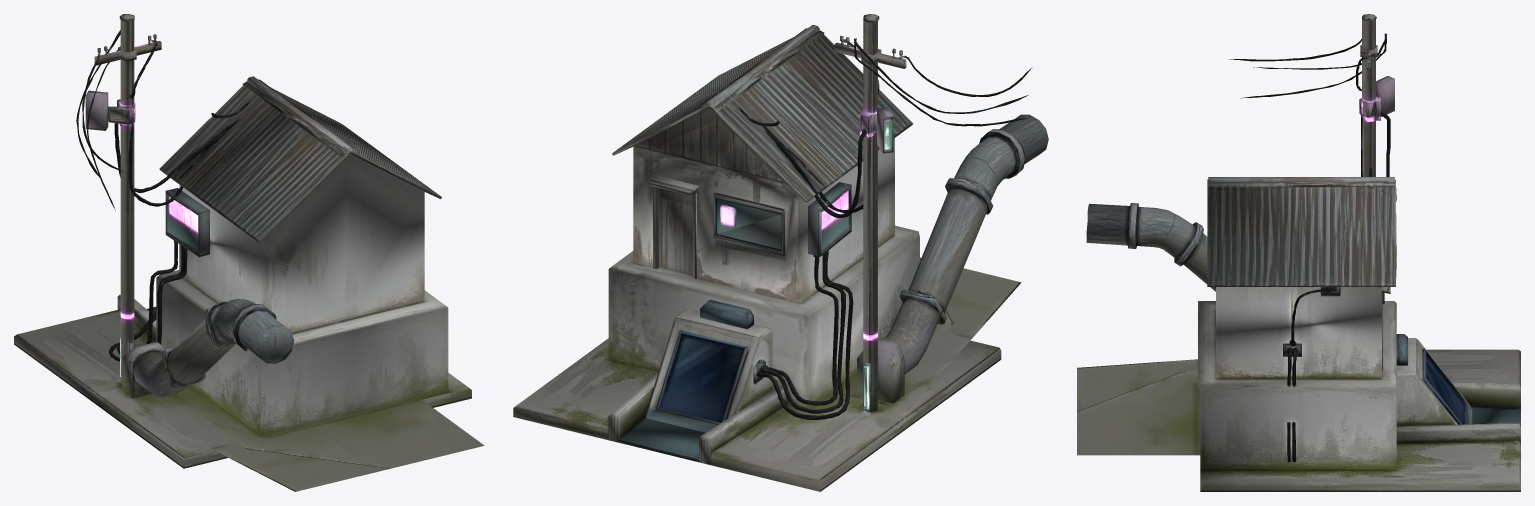
The model's file is micro_hydro.glb.
The picture shows the model from 3 angles, left to right: view 1: azimuth 30°, elevation 25°; view 2: azimuth 150°, elevation 25°; view 3: azimuth 270°, elevation 25°; orthographic projection. The views are drawn at different scales.
Visible parts, largest first — view 1: Body, Glow; view 2: Body, Glow; view 3: Body.
Part boxes in pixels (x1,y1,x2,y2): Body: (14,14,484,491); Glow: (112,41,198,376); Body: (513,14,1048,491); Glow: (716,42,891,412); Body: (1077,14,1520,491).
Size of the model in its own units: 8 by 8.48 by 9.48.
2 materials, 2 textured.
